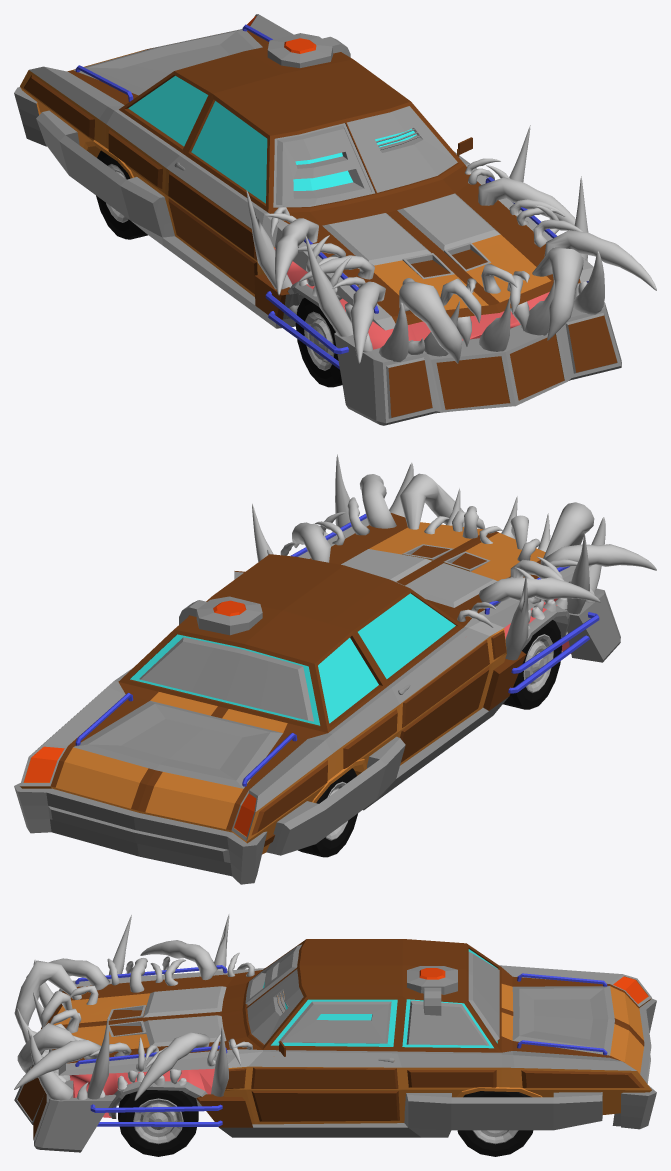
File: monster_car.fbx
The picture shows the model from 3 angles, top to bottom: view 1: azimuth 30°, elevation 25°; view 2: azimuth 150°, elevation 25°; view 3: azimuth 270°, elevation 25°; orthographic projection. The views are drawn at different scales.
Parts seen in each view (by area): view 1: monster-car, ust_agız, alt_agız, on_tekerler, arka_tekerler; view 2: monster-car, ust_agız, alt_agız, on_tekerler, arka_tekerler; view 3: monster-car, ust_agız, alt_agız, on_tekerler, arka_tekerler.
Part boxes in pixels (left/top/right/bottom): monster-car: left=14, top=14, right=476, bottom=328; ust_agız: left=262, top=158, right=656, bottom=363; alt_agız: left=246, top=125, right=621, bottom=425; on_tekerler: left=295, top=298, right=342, bottom=387; arka_tekerler: left=96, top=150, right=147, bottom=239; monster-car: left=14, top=554, right=509, bottom=884; ust_agız: left=267, top=473, right=656, bottom=635; alt_agız: left=252, top=454, right=620, bottom=710; on_tekerler: left=503, top=620, right=562, bottom=709; arka_tekerler: left=298, top=768, right=357, bottom=857; monster-car: left=199, top=939, right=656, bottom=1137; ust_agız: left=14, top=940, right=262, bottom=1100; alt_agız: left=14, top=914, right=252, bottom=1152; on_tekerler: left=118, top=1090, right=198, bottom=1156; arka_tekerler: left=457, top=1091, right=533, bottom=1156.
Bounding box in the file's own units: 244 × 139 × 526.
